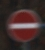No entry: (5, 6, 40, 45)
